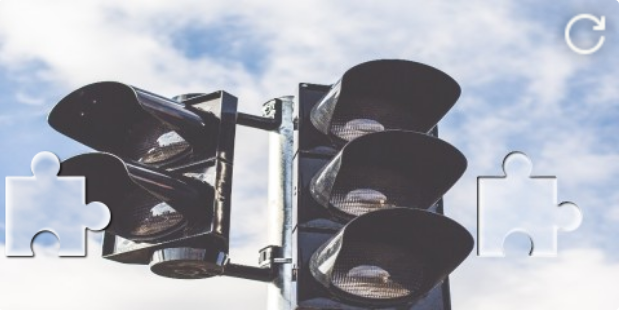target: (477, 152, 582, 257)
